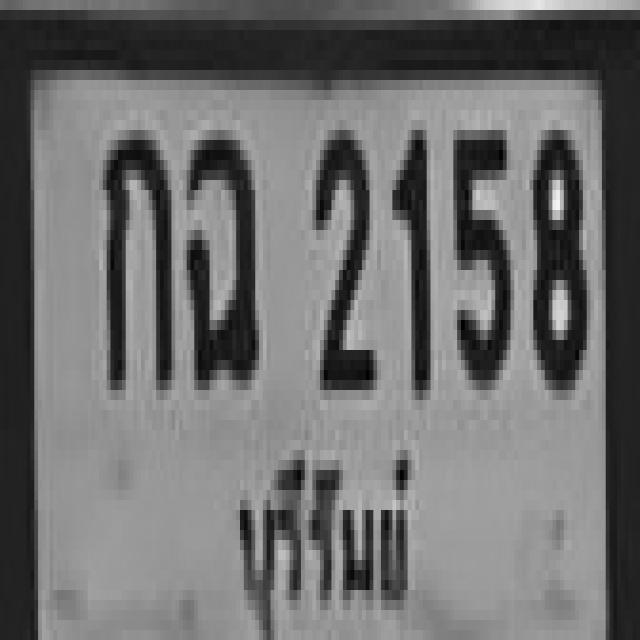1: (388, 120, 434, 398)
10GorGai: (99, 120, 173, 396)
18ChorChing: (183, 120, 260, 397)
2: (314, 120, 379, 399)
5: (450, 120, 514, 393)
8: (530, 120, 590, 398)
Buriram: (225, 437, 420, 640)
